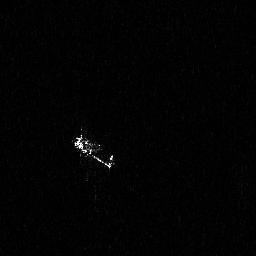ship: (72, 126, 117, 173)
